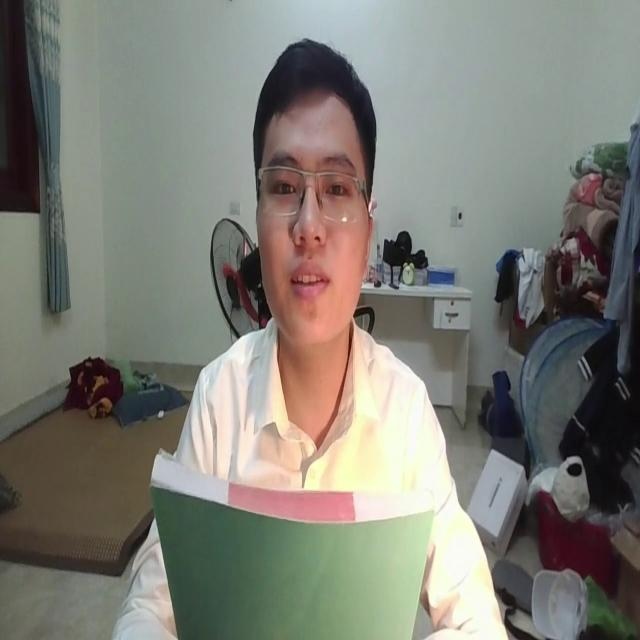book: (148, 442, 434, 640)
student: (114, 33, 512, 640)
